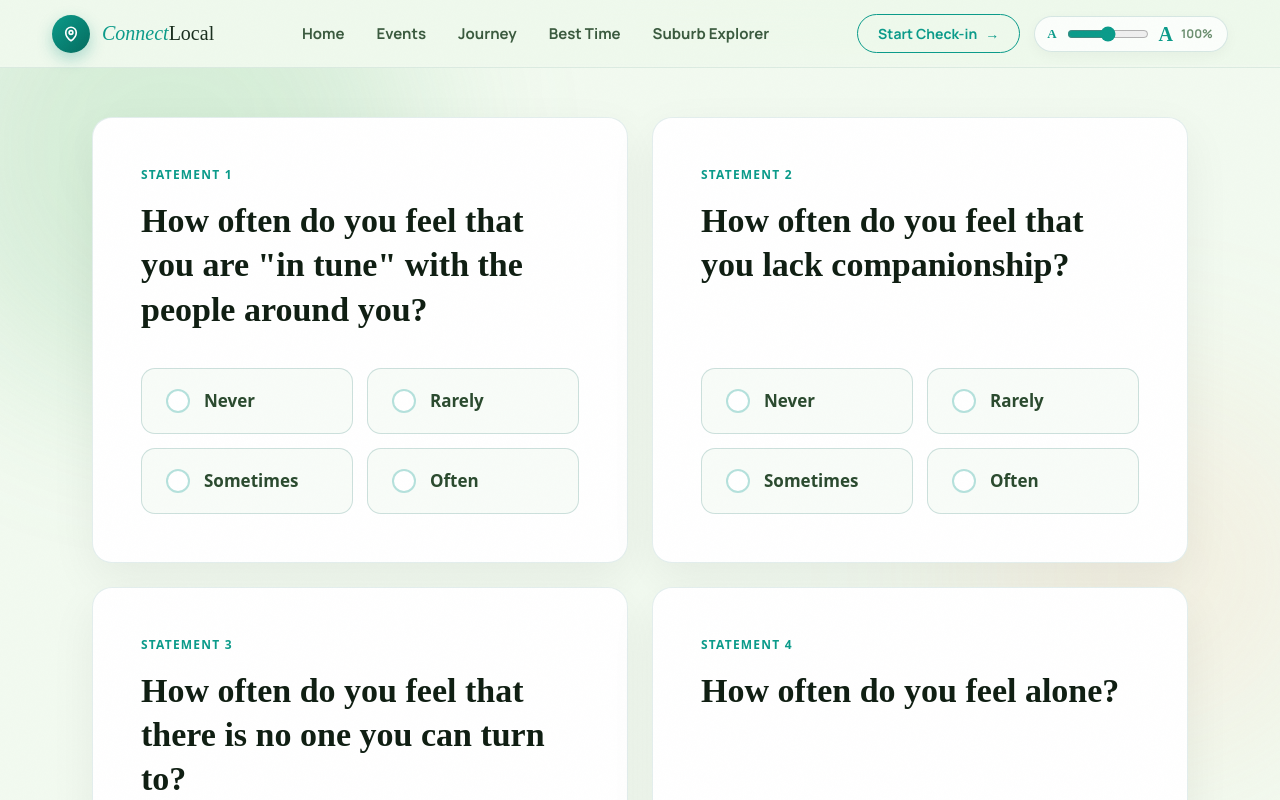
Scenario: CheckinFormPage › advances to page 2 only after all 4 answers are given
(page scrolled)
Click the button with class "option-btn" below "Statement 1" at point(247, 401), box [141,368,353,434]
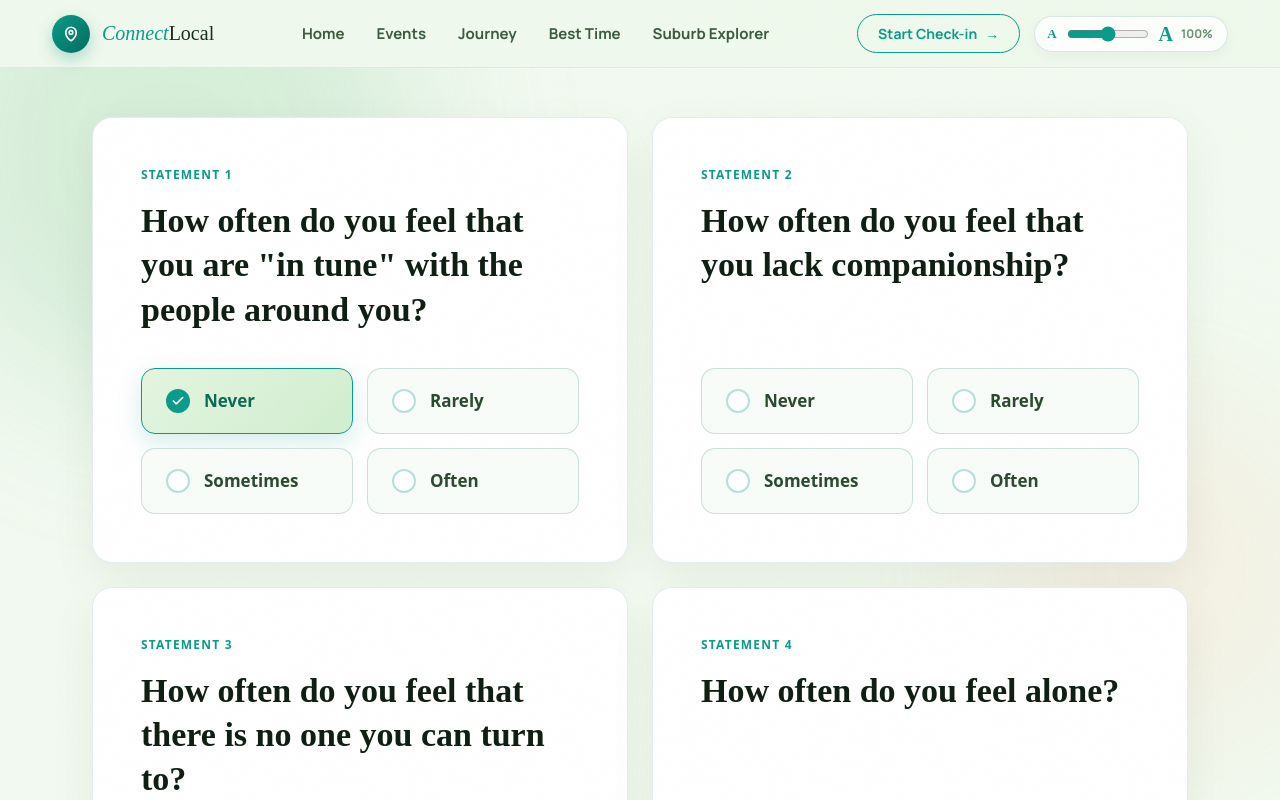
Click the button with class "option-btn" below "Statement 2" at point(807, 401), box [701,368,913,434]
(page scrolled)
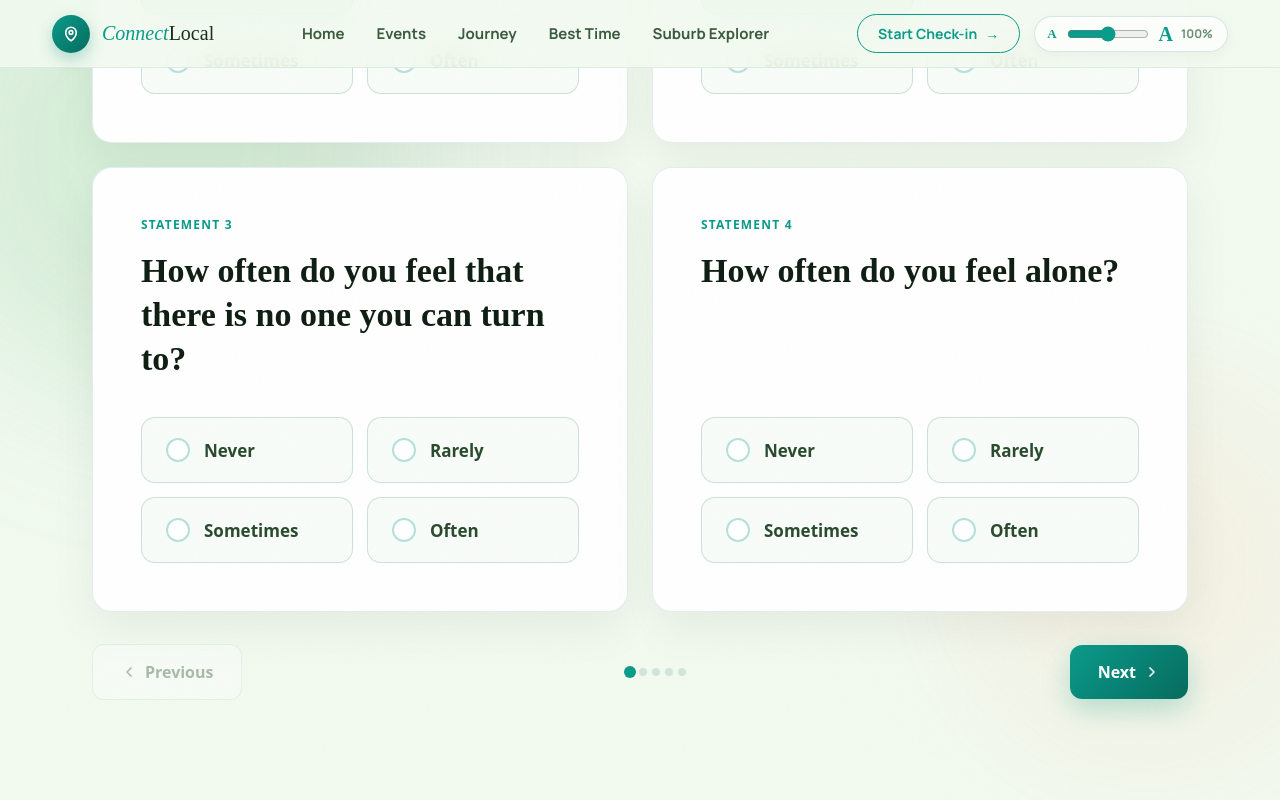
Click the button with class "option-btn" below "Statement 3" at point(247, 450), box [141,417,353,483]
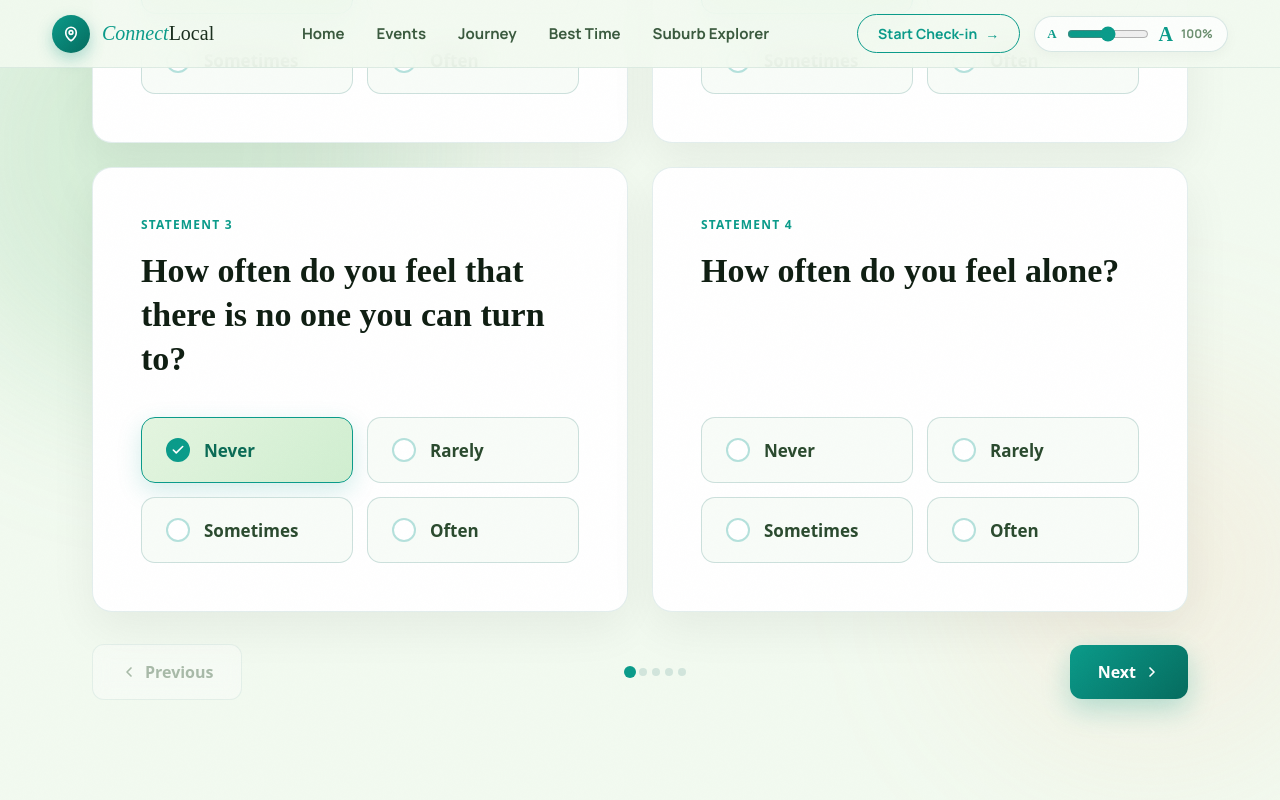
Click the button with class "option-btn" below "How often do you feel alone?" at point(807, 450), box [701,417,913,483]
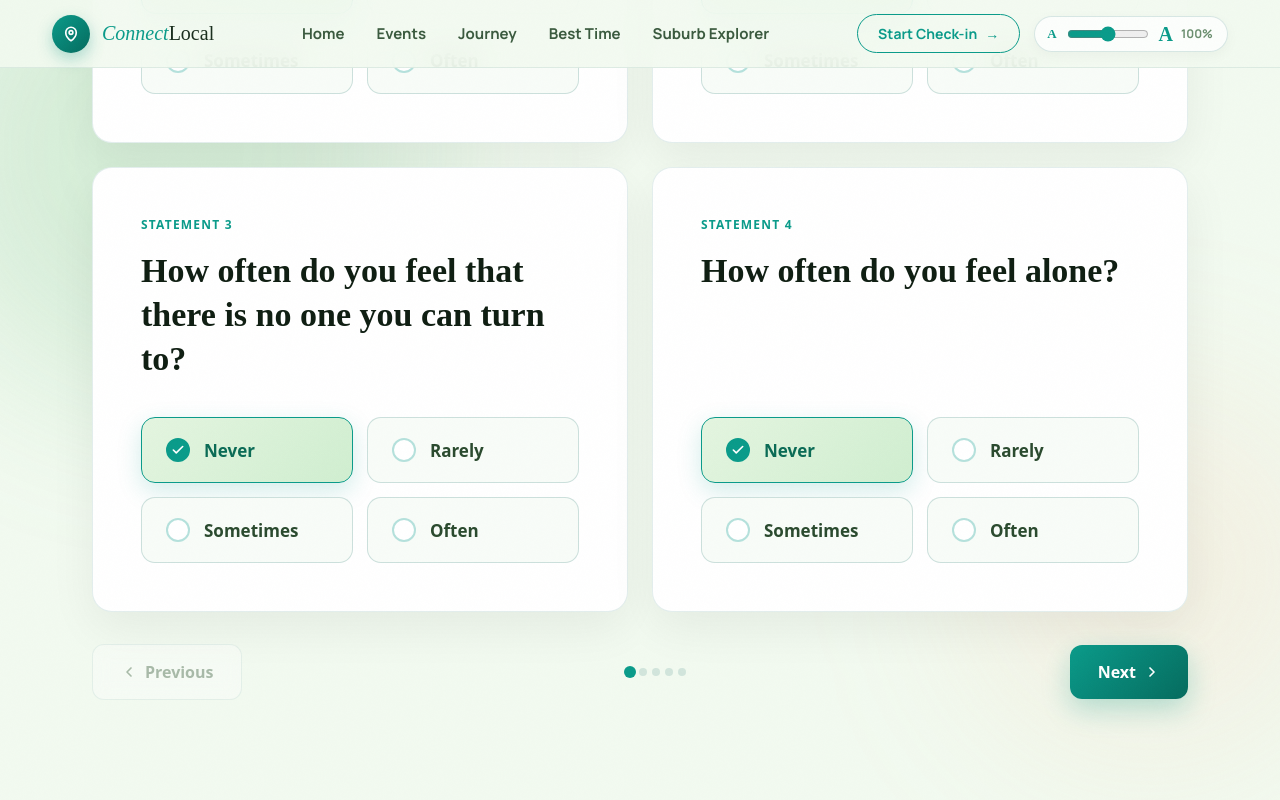
Click the button "Next" at point(1129, 672), box [1070,645,1188,699]
(page scrolled)
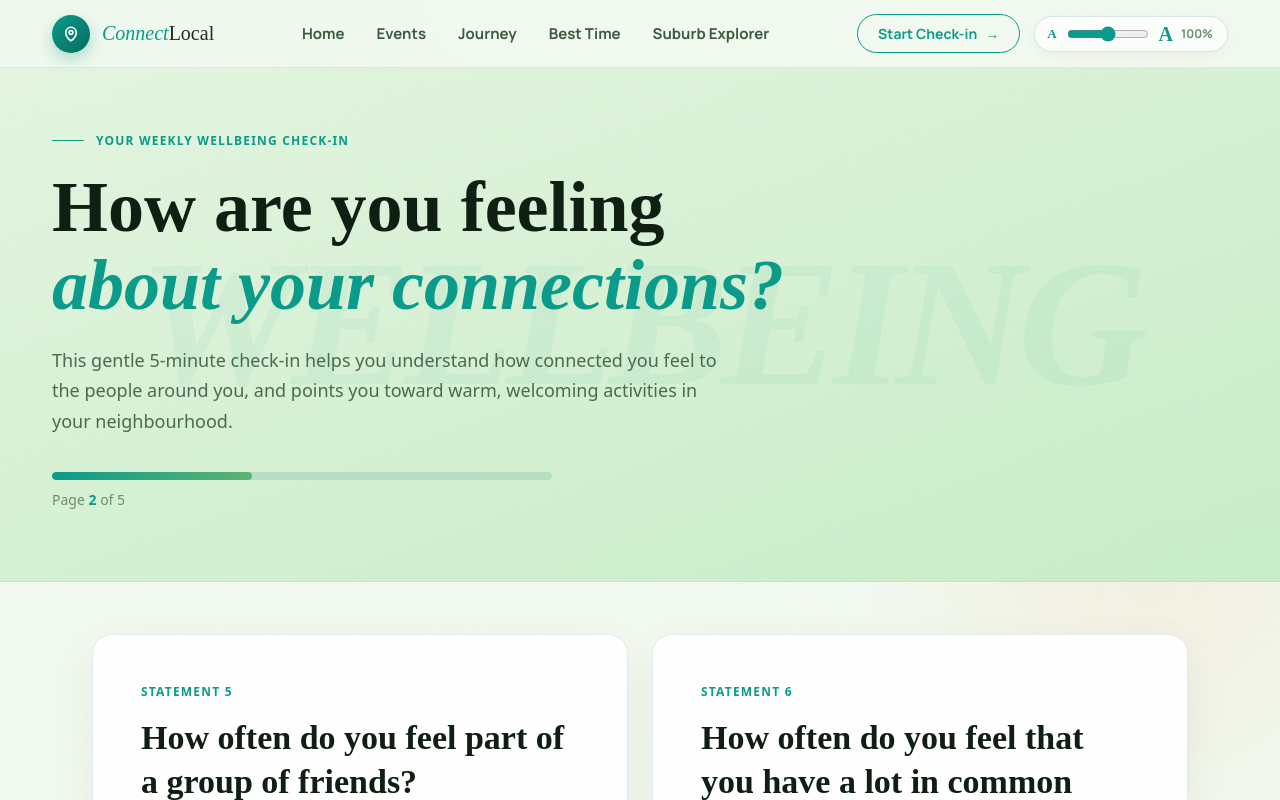
Expected: the text "Page 2 of 5" is shown, [52,490,125,509]
